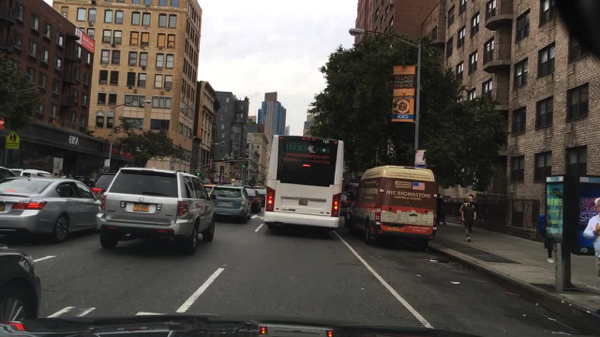bus: (263, 134, 344, 235)
car: (95, 166, 217, 256), (344, 165, 436, 251), (0, 176, 102, 242), (0, 240, 43, 320), (208, 184, 252, 224), (91, 169, 118, 197), (242, 184, 261, 213), (8, 168, 53, 178), (0, 165, 17, 184), (338, 191, 350, 215), (252, 186, 265, 207), (203, 183, 221, 197)
person: (581, 196, 599, 277), (534, 211, 555, 263), (459, 195, 476, 242), (435, 192, 446, 225), (84, 176, 93, 186), (89, 176, 95, 186), (66, 173, 74, 180), (59, 172, 67, 179), (79, 175, 85, 183), (53, 172, 59, 177)
traffic light: (196, 169, 201, 176), (241, 160, 245, 168)
traffic sign: (5, 131, 21, 151), (414, 149, 427, 168), (104, 159, 110, 167)
